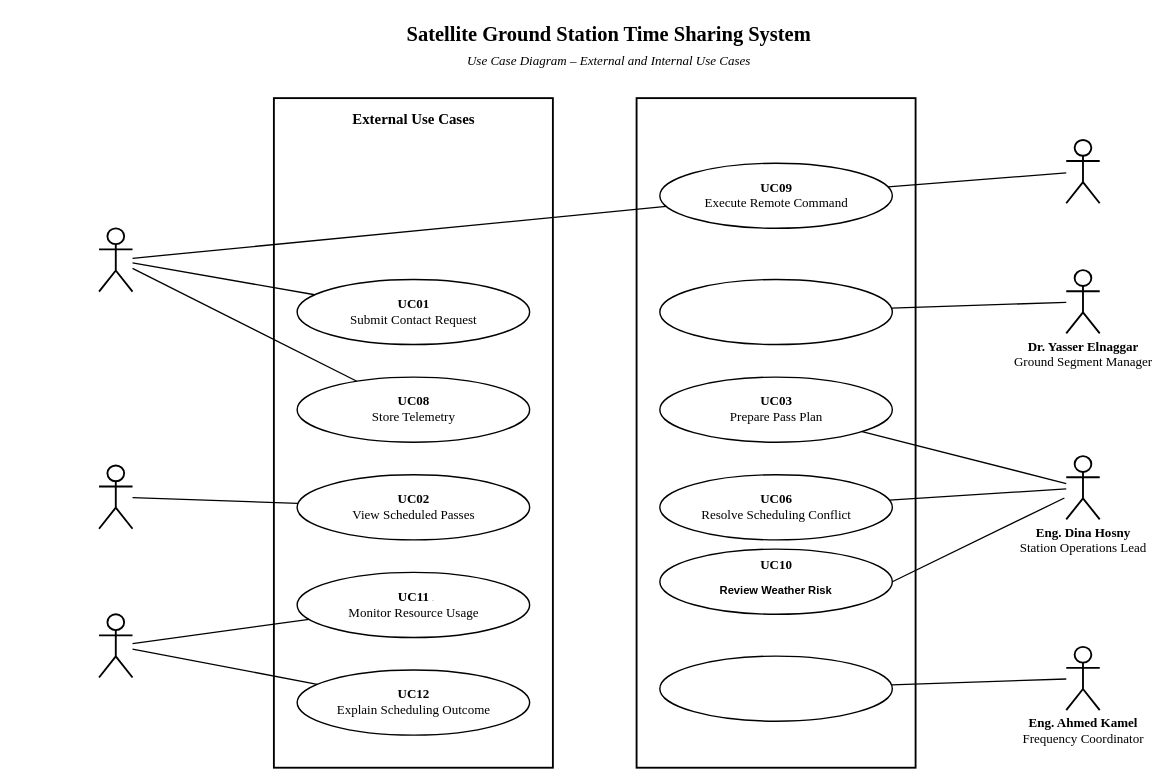
Some shapes in this 1176 by 784 pixel diagram are drawn without their labels. The shapes that lost their labels are listed below. From the top down, each one's box as (x1, y1, x2, y2) in pixels, then its label:
(1065, 139, 1100, 204): Dr. Samir Ezzat Head of Information Security
(98, 227, 133, 292): Dr. Lamia Rashad Mission Operator (Cairo University)
(659, 278, 893, 345): UC07 Allocate Ground-Station Time
(635, 97, 916, 768): Internal Use Cases
(98, 464, 133, 529): Mr. Sani Bello Mission Operator (Partner University)
(98, 613, 133, 678): University / Mission Management
(659, 655, 893, 721): UC04 Check Frequency License
